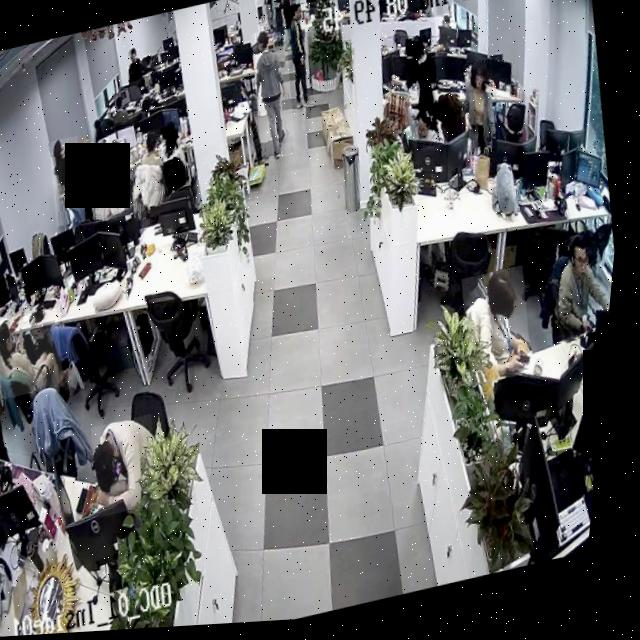person: (459, 271, 547, 393), (540, 234, 622, 353), (243, 28, 308, 165), (92, 415, 174, 520), (0, 307, 76, 400), (123, 129, 181, 224), (276, 5, 324, 115), (456, 63, 506, 164), (86, 136, 143, 224), (45, 136, 94, 228), (401, 38, 448, 126), (158, 124, 198, 196), (413, 107, 449, 155), (123, 45, 149, 91), (432, 16, 461, 57)
